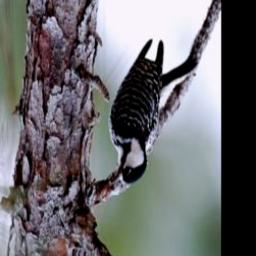Woodpecker: (104, 39, 198, 191)
